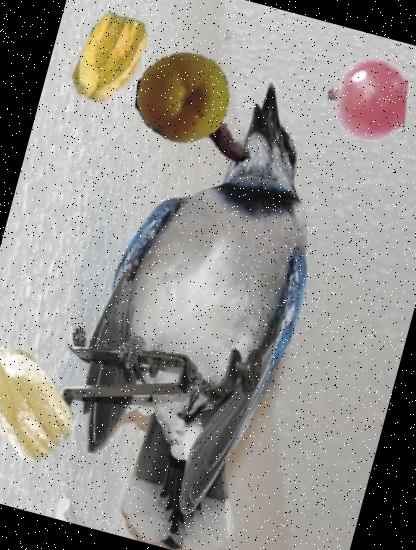Banana: (122, 36, 270, 185)
Peach: (128, 39, 243, 154)
Physalis: (0, 330, 96, 476), (52, 1, 168, 117)
Redcurrant: (316, 49, 416, 151)
